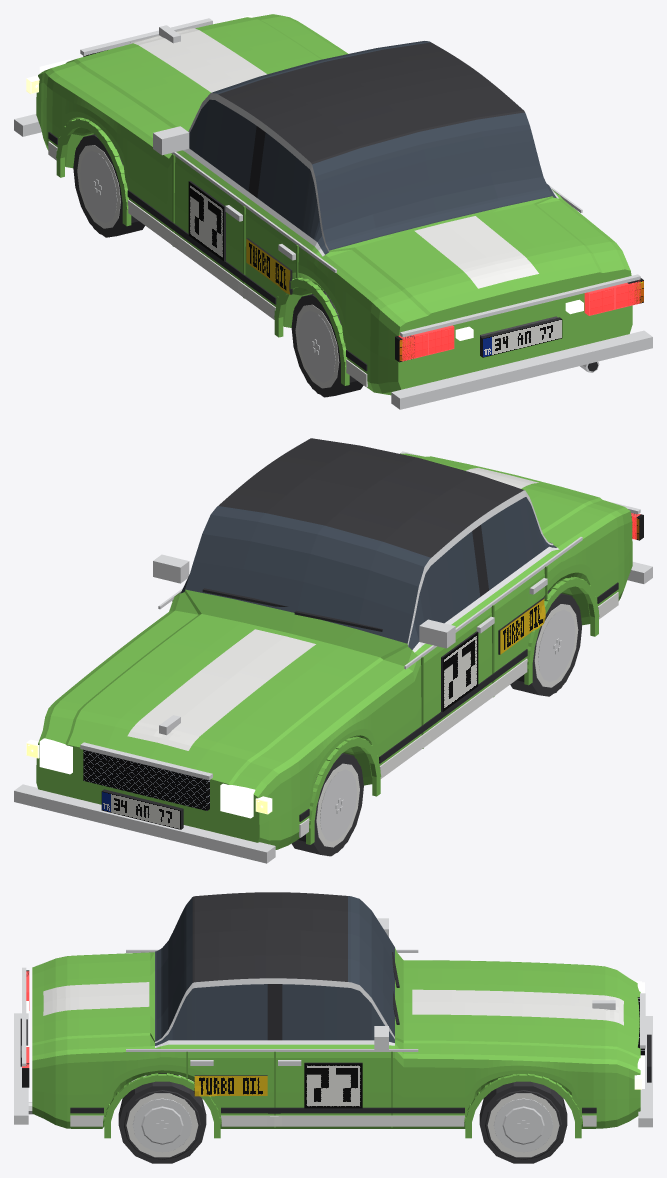
The model's file is kartal.glb.
The picture shows the model from 3 angles, top to bottom: view 1: azimuth 30°, elevation 25°; view 2: azimuth 150°, elevation 25°; view 3: azimuth 270°, elevation 25°; orthographic projection. The views are drawn at different scales.
Visible parts, largest first — view 1: body, livery, wheel_RL, wheel_FL; view 2: body, livery, wheel_RL, wheel_FL; view 3: body, livery, wheel_FR, wheel_RR.
Boxes of the visible parts, <box> form: body: <box>14,14,652,409</box>; livery: <box>48,28,538,387</box>; wheel_RL: <box>291,291,363,397</box>; wheel_FL: <box>73,134,145,237</box>; body: <box>14,438,652,863</box>; livery: <box>127,468,618,837</box>; wheel_RL: <box>510,590,581,696</box>; wheel_FL: <box>291,753,363,856</box>; body: <box>14,892,652,1138</box>; livery: <box>43,982,623,1126</box>; wheel_FR: <box>479,1081,567,1163</box>; wheel_RR: <box>118,1081,206,1163</box>.
Bounding box in the file's own units: 1.92 × 1.4 × 4.37.
Materials: 20 (8 with a texture image).
